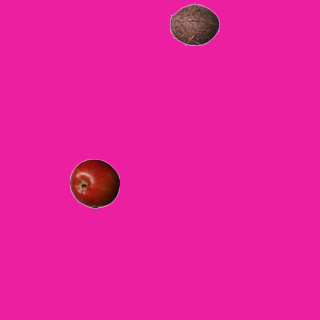Apple Braeburn: (69, 158, 119, 208)
Cocos: (169, 0, 219, 49)
